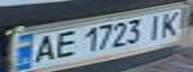1: (78, 25, 100, 53)
2: (109, 19, 133, 49)
3: (124, 17, 148, 45)
7: (93, 20, 115, 52)
A: (27, 33, 60, 64)
E: (48, 28, 81, 60)
I: (142, 11, 169, 40)
K: (154, 8, 190, 38)
